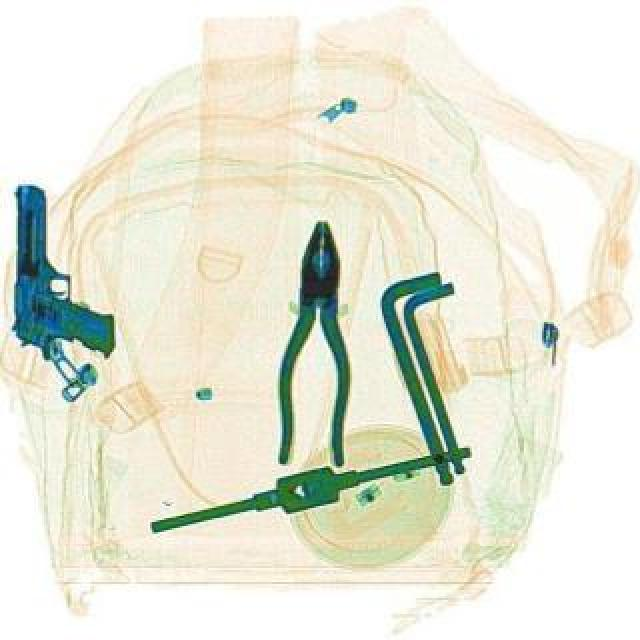gun: (8, 182, 120, 362)
wrench: (274, 218, 358, 466)
